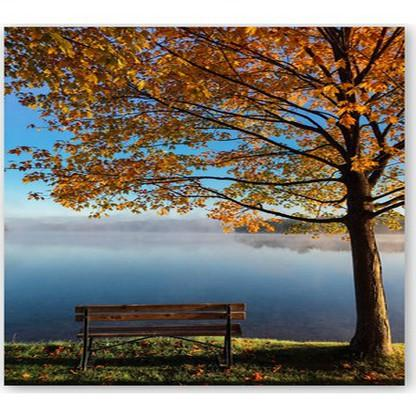obstacle: (65, 298, 252, 369)
